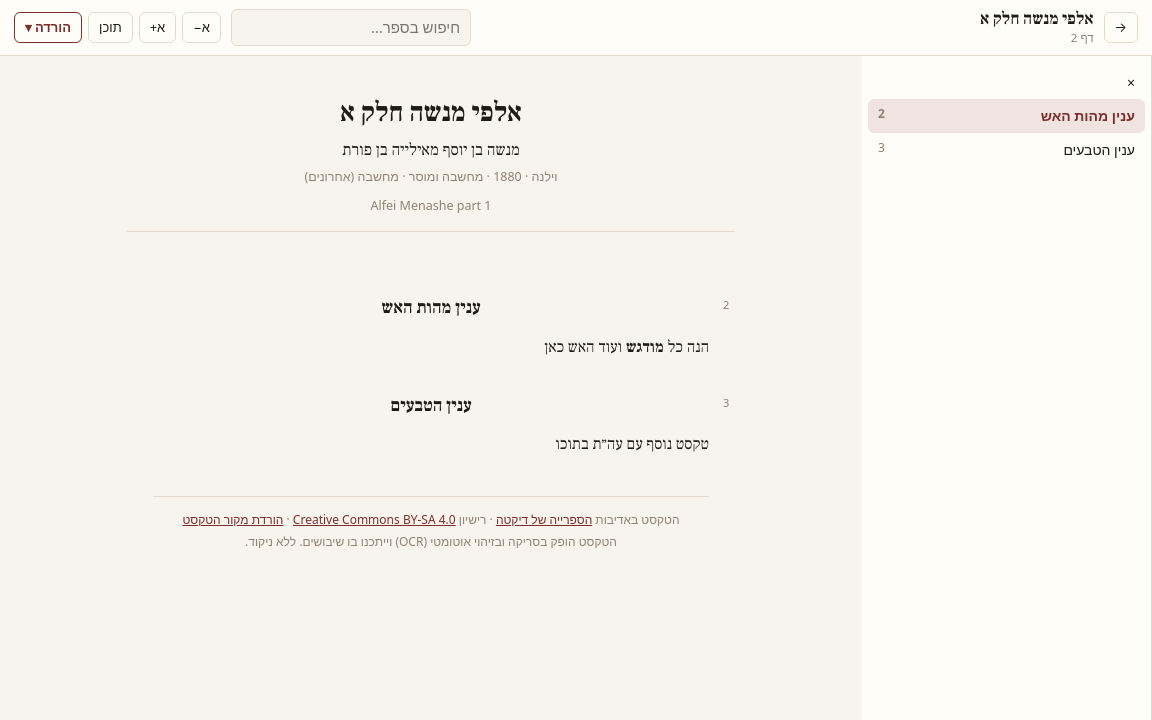
Test case: reader navigation and tools › says what it is doing while a download is prepared
Check: the text "הנה כל" is shown, box 668,336 -> 709,356
Click the button "הורדה ▾": (48,27) 14,12 -> 82,43
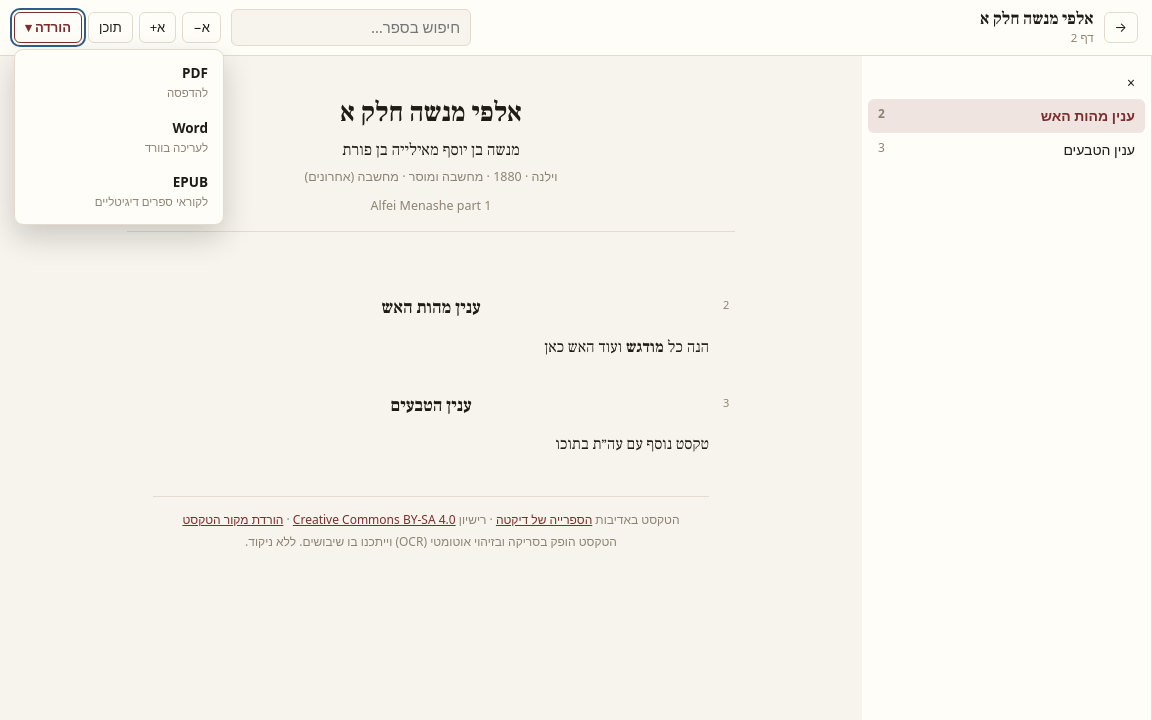
Click the button "PDF להדפסה": (119,82) 20,55 -> 218,110
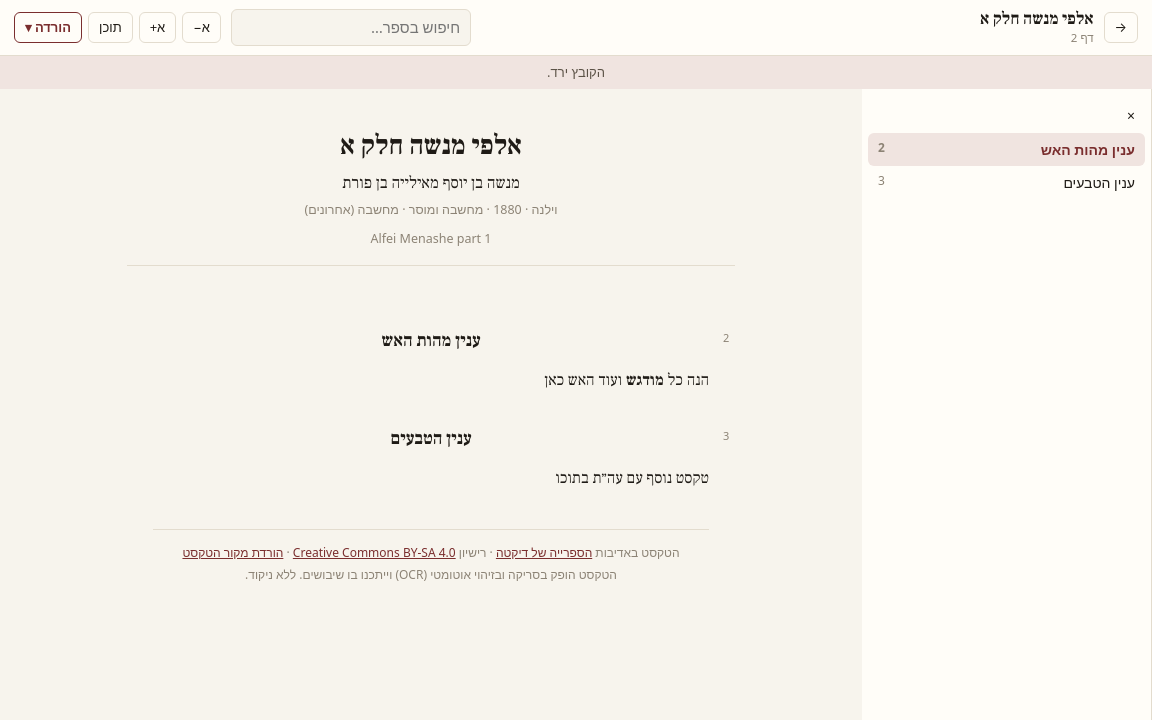
Check: the text "הקובץ ירד." is shown, box 547,62 -> 605,82
